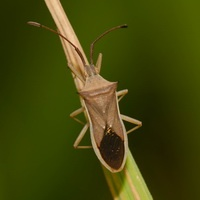insect: (27, 21, 141, 171)
